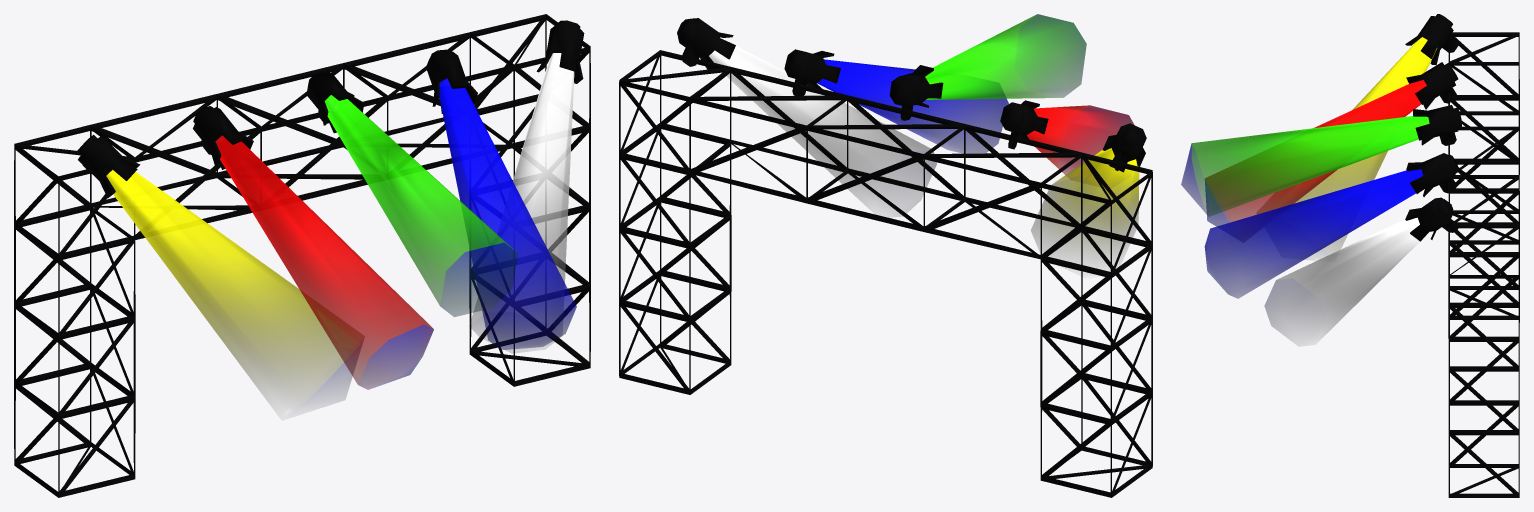
The picture shows the model from 3 angles, left to right: view 1: azimuth 30°, elevation 25°; view 2: azimuth 150°, elevation 25°; view 3: azimuth 270°, elevation 25°; orthographic projection. The views are drawn at different scales.
Parts seen in each view (by area): view 1: StageTrussDarkLightingOn; view 2: StageTrussDarkLightingOn; view 3: StageTrussDarkLightingOn.
Boxes of the visible parts, x1=… form: StageTrussDarkLightingOn: x1=14, y1=14, x2=590, y2=497; StageTrussDarkLightingOn: x1=619, y1=14, x2=1152, y2=497; StageTrussDarkLightingOn: x1=1181, y1=14, x2=1519, y2=497.
Size of what is drawn, in the model's own units: 14.03 by 9.03 by 9.66.
2 materials, 2 textured.
